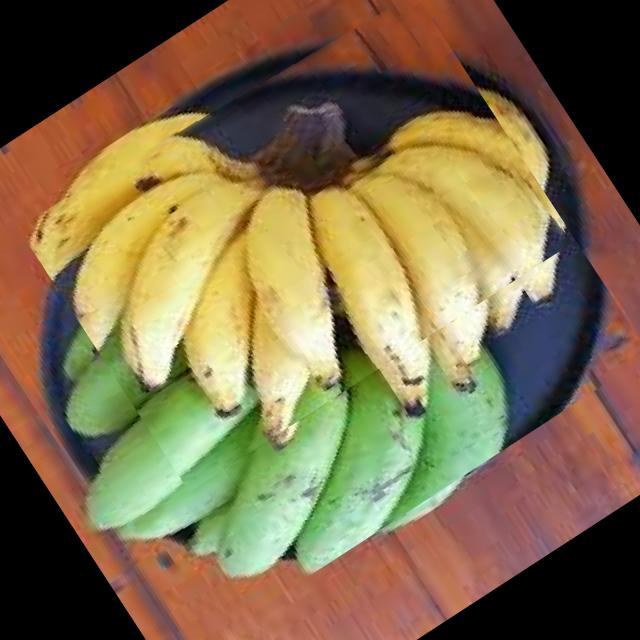Organic: (0, 0, 640, 640), (15, 0, 573, 490)
